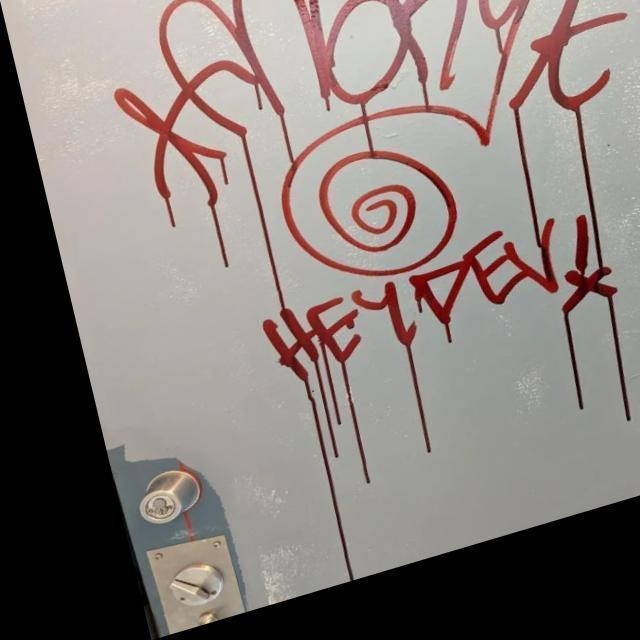-: (56, 0, 640, 595)
